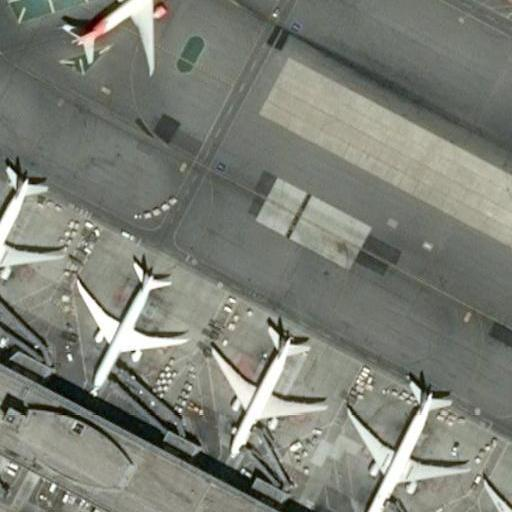Aircraft: (208, 312, 330, 457), (344, 371, 466, 512), (71, 250, 185, 392), (61, 0, 180, 69), (0, 159, 54, 297), (476, 447, 512, 512)
